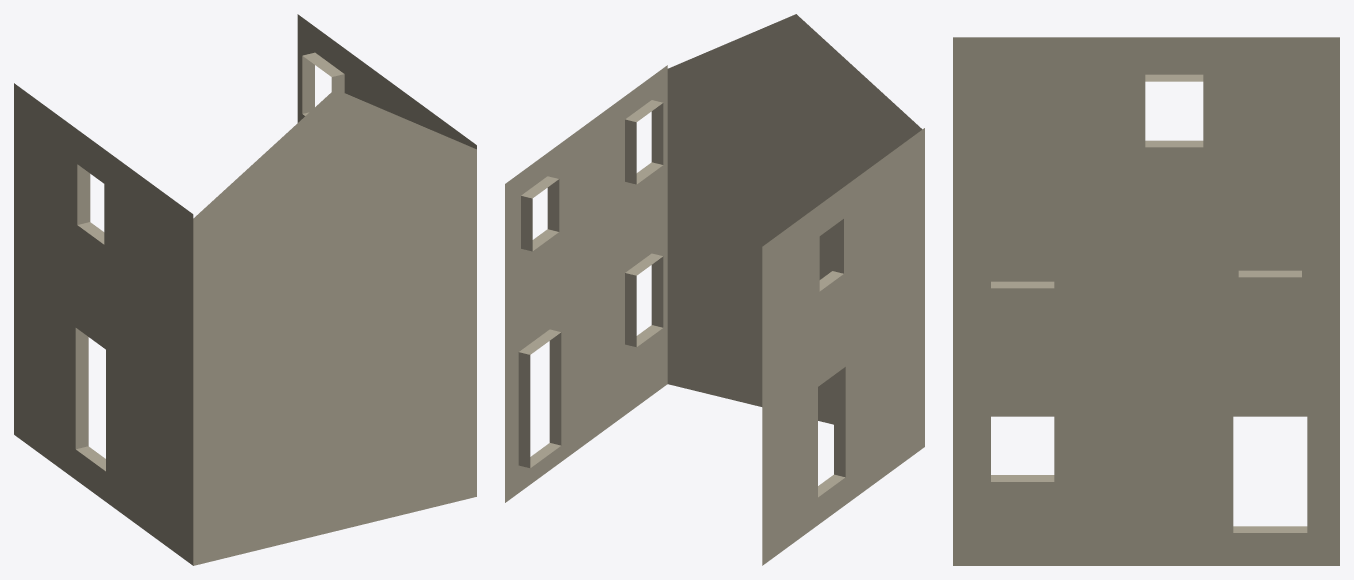
Rendered from SM_Bld_076_Render.glb.
The picture shows the model from 3 angles, left to right: view 1: azimuth 30°, elevation 25°; view 2: azimuth 150°, elevation 25°; view 3: azimuth 270°, elevation 25°; orthographic projection. The views are drawn at different scales.
Visible parts, largest first — view 1: SM_Bld_076_Render; view 2: SM_Bld_076_Render; view 3: SM_Bld_076_Render.
Part boxes in pixels (x1=…): SM_Bld_076_Render: x1=14, y1=14, x2=476, y2=565; SM_Bld_076_Render: x1=505, y1=14, x2=924, y2=565; SM_Bld_076_Render: x1=953, y1=37, x2=1339, y2=565.
Size of the model in its own units: 4.87 by 7.26 by 5.33.
